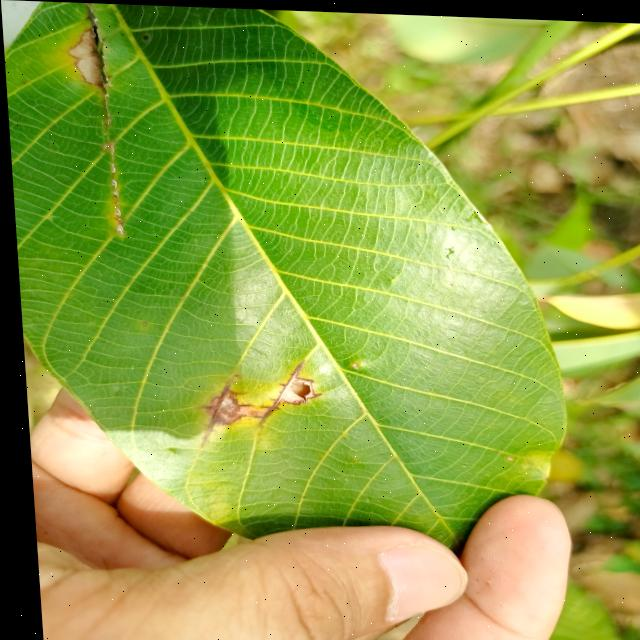Colletotrichum: (346, 360, 353, 364), (138, 321, 142, 325)
Corynespora: (245, 356, 318, 428), (190, 379, 251, 449)
Leaf-Blight: (66, 29, 99, 84), (272, 375, 308, 401)
